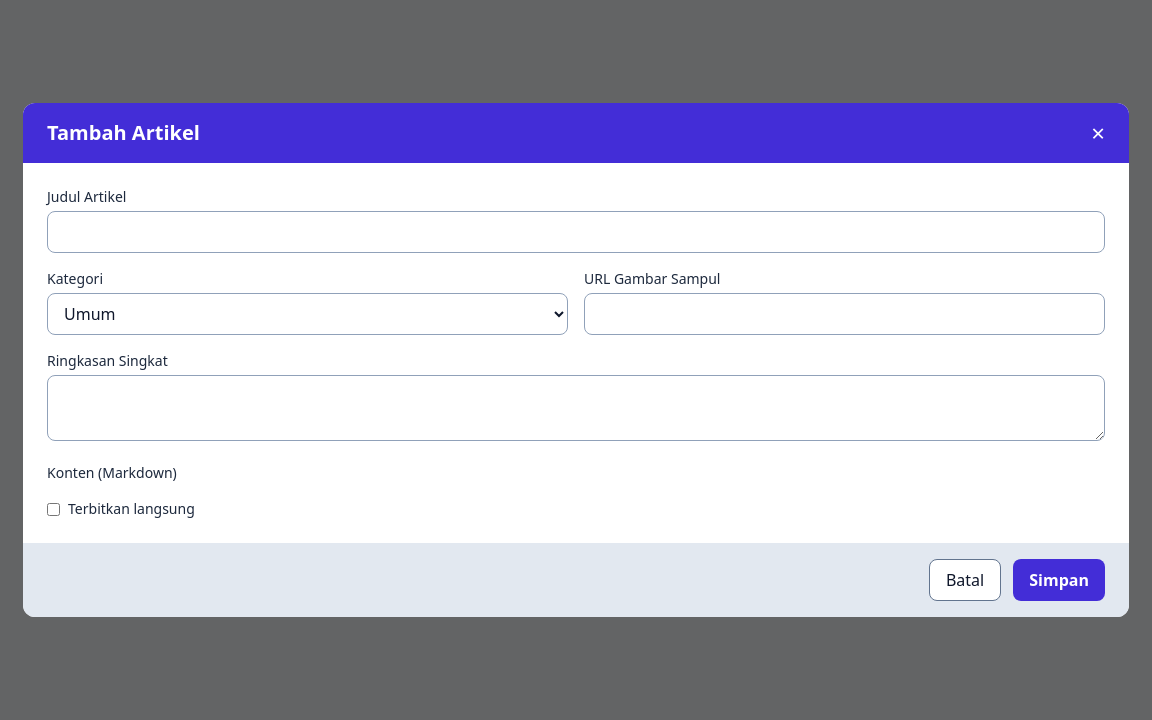
Test: PostModal › menolak simpan bila judul/konten kosong
The width and height of the screenshot is (1152, 720).
Click the button "Simpan" at (1059, 580), box [1013, 559, 1105, 601]
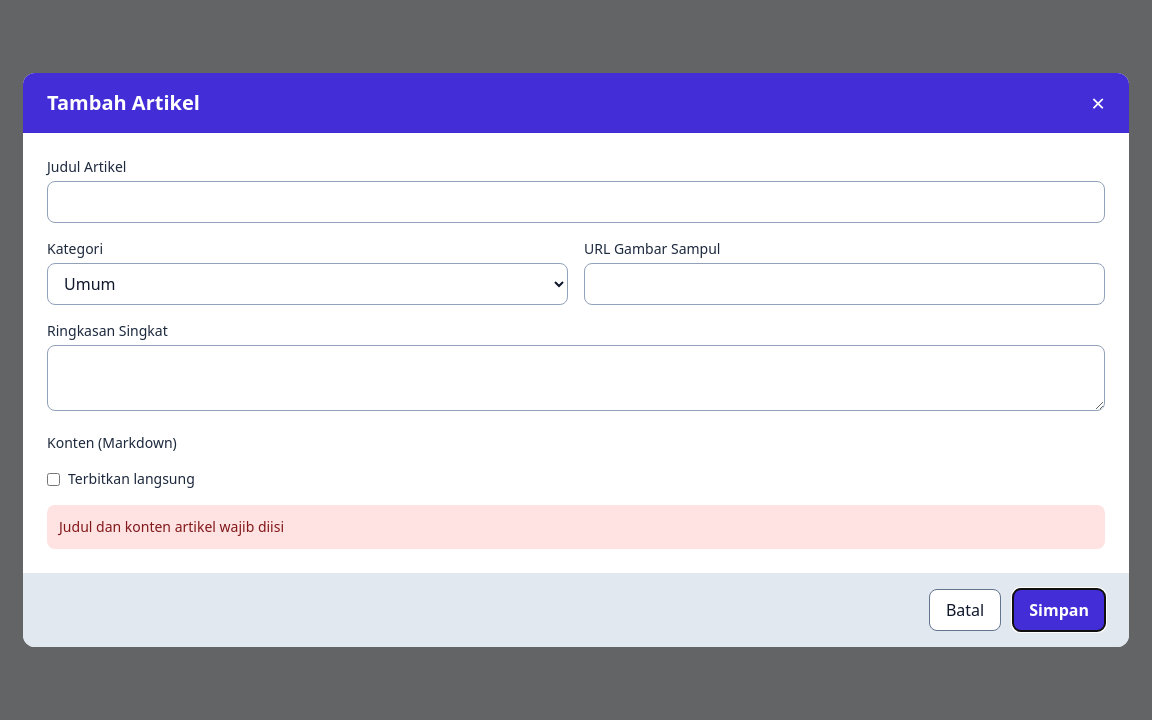
Result: the message reads "Judul dan konten artikel wajib diisi" at [59, 517, 284, 536]
